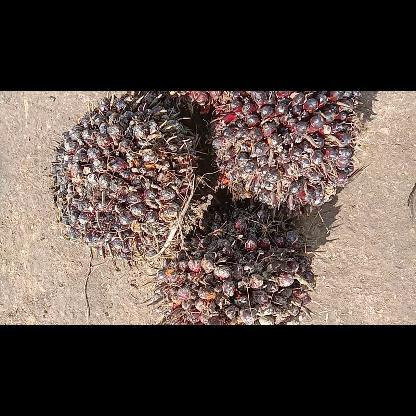Kurang masak: (48, 90, 208, 262), (208, 92, 372, 212), (151, 212, 321, 324)
